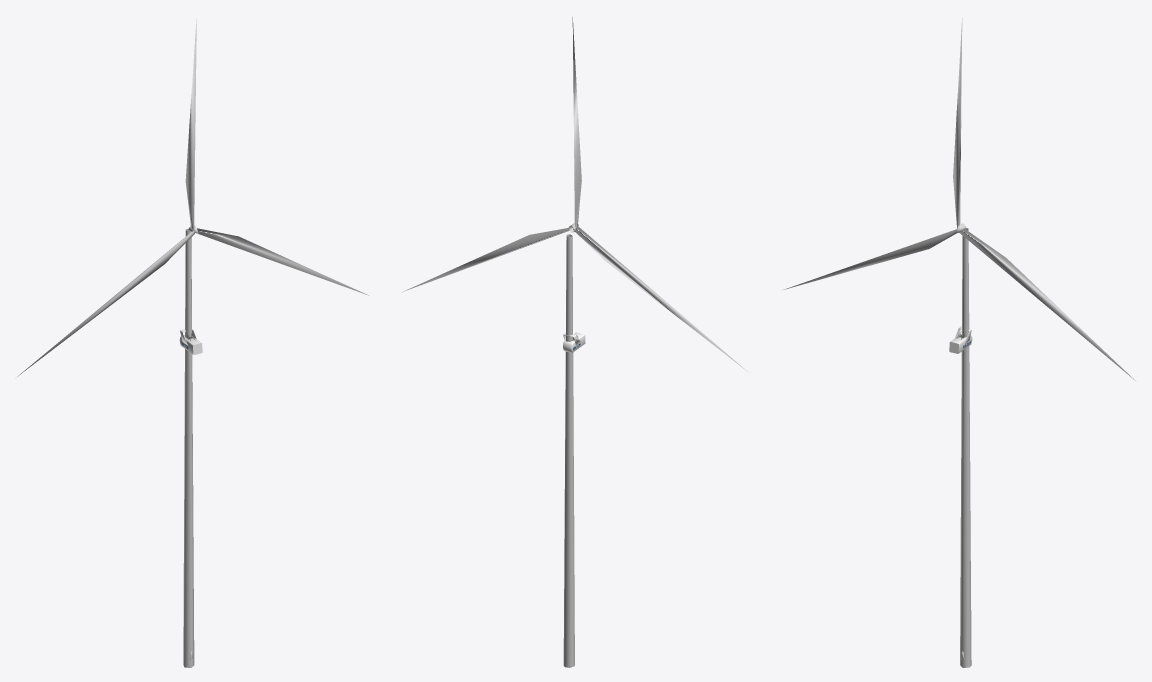
Rendered from turbine.glb.
The picture shows the model from 3 angles, left to right: view 1: azimuth 30°, elevation 25°; view 2: azimuth 150°, elevation 25°; view 3: azimuth 330°, elevation 25°; orthographic projection.
Visible parts, largest first — view 1: Cube_Material.003_0; view 2: Cube_Material.003_0; view 3: Cube_Material.003_0.
Part boxes in pixels (x1,y1,x2,y2): Cube_Material.003_0: (17,19,369,667); Cube_Material.003_0: (401,17,748,667); Cube_Material.003_0: (783,17,1135,667).
Bounding box in the file's own units: 2556989 × 4484790 × 173330.
3 materials, 1 textured.
